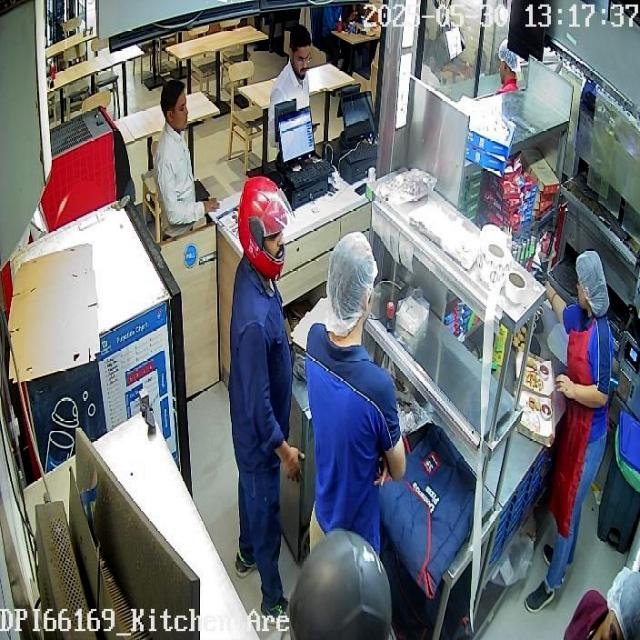helmet: (239, 176, 293, 278)
